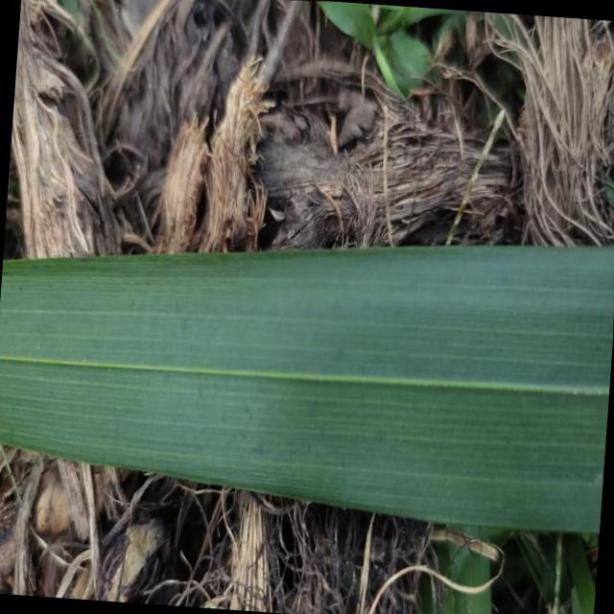Healthy: (3, 254, 614, 537)
